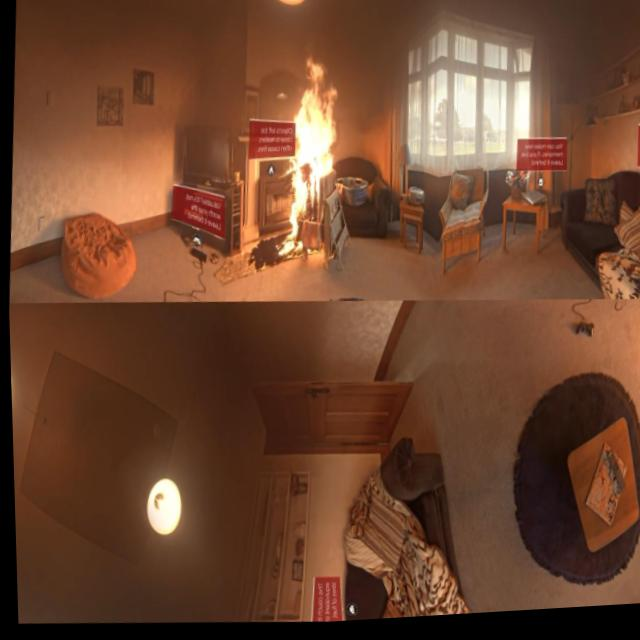fire: (271, 53, 346, 271)
